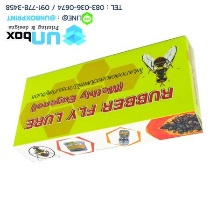insecticide: (10, 32, 206, 165)
